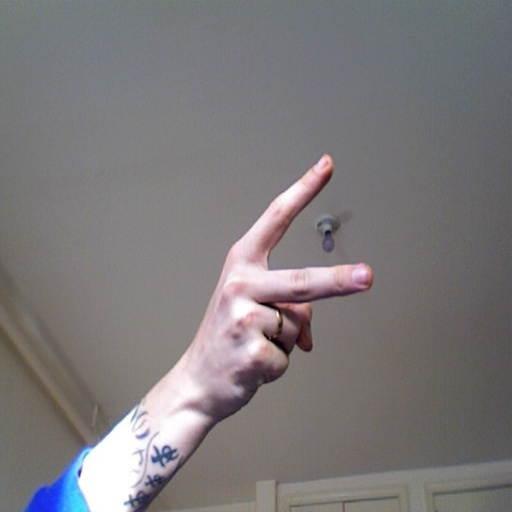hand: (182, 155, 371, 416)
